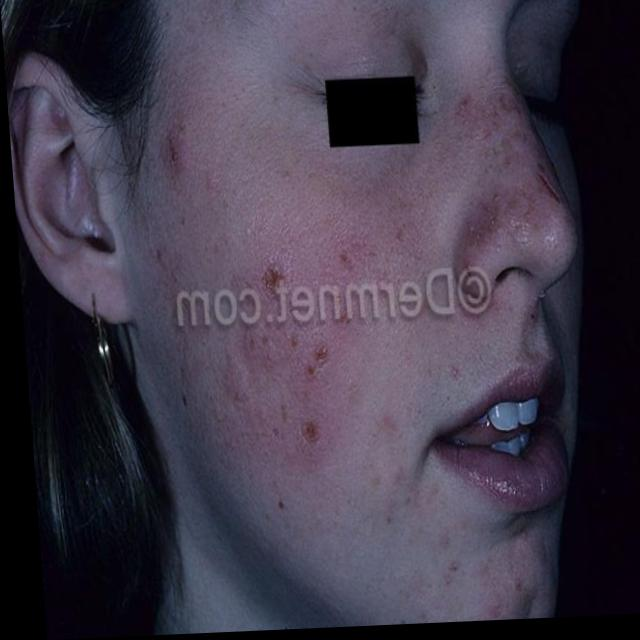Rosacea: (223, 232, 390, 476), (468, 114, 563, 216), (150, 105, 192, 182), (487, 562, 538, 620)
